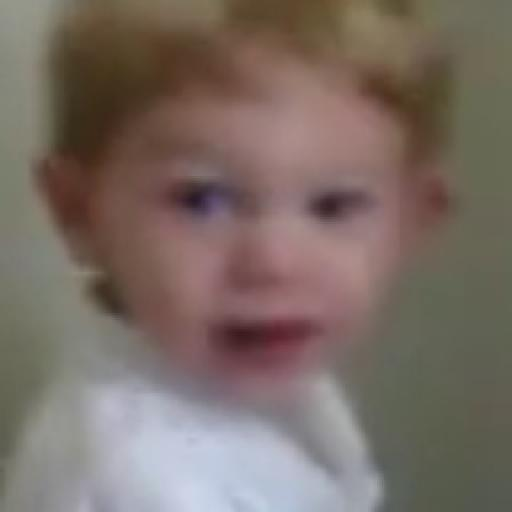Autism: (70, 10, 428, 408)
